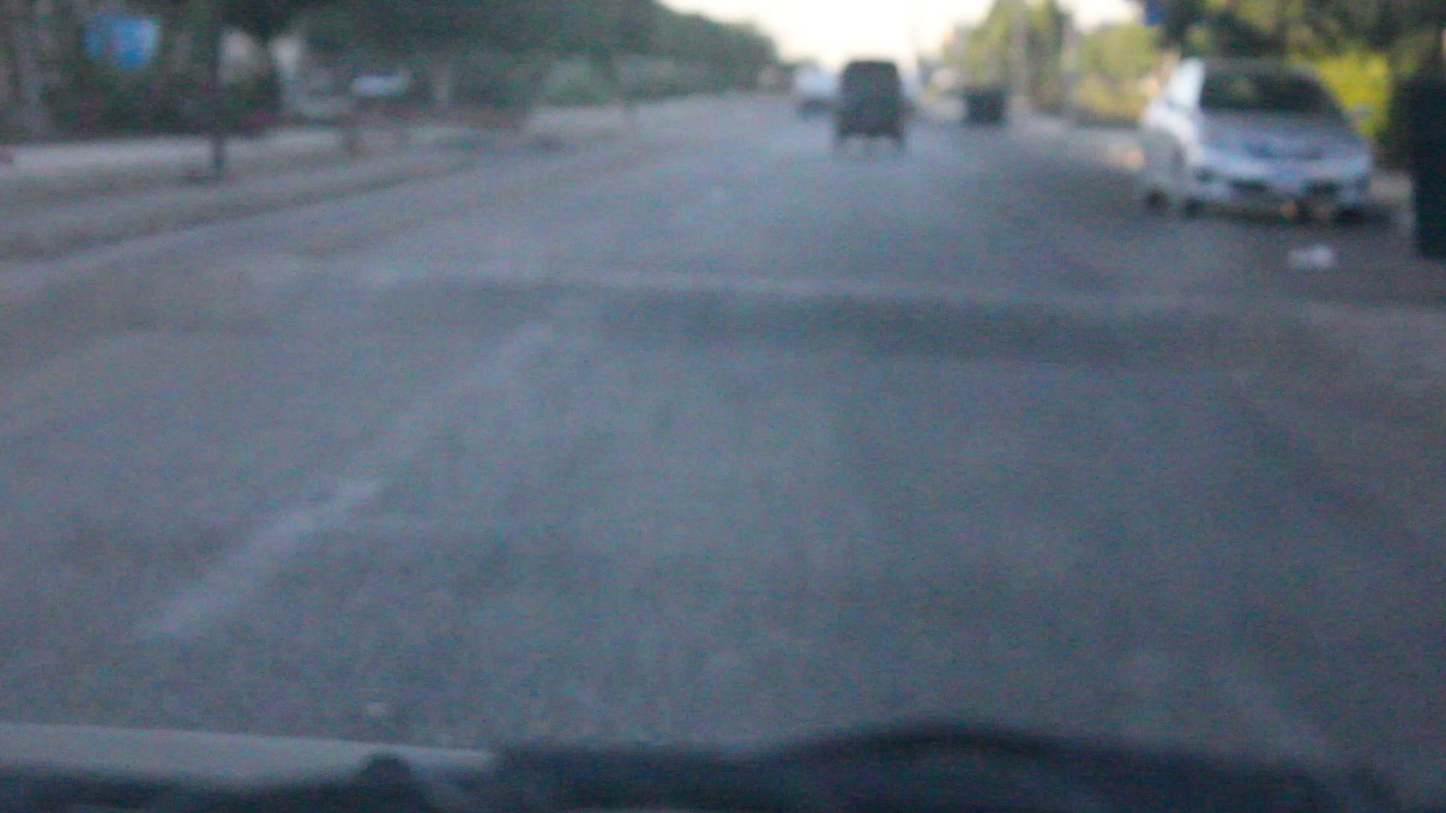Bump: (111, 265, 1445, 375)
